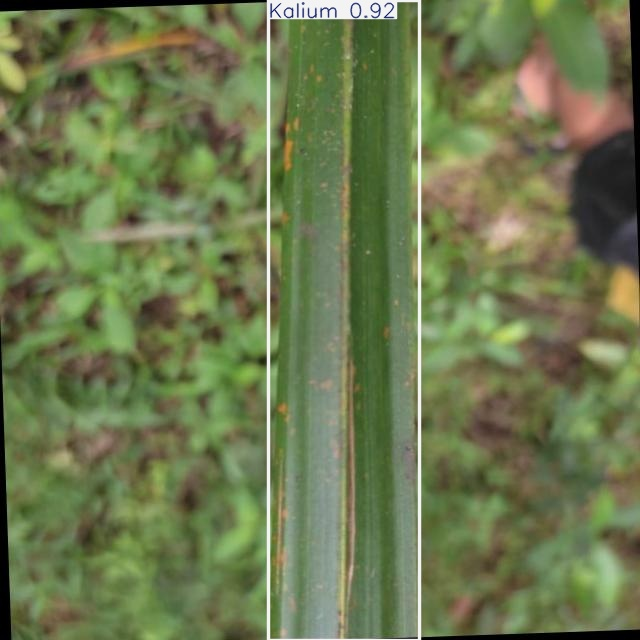Kalium: (268, 1, 419, 640)
